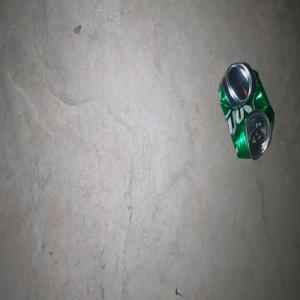SodaCan: (218, 61, 274, 160)
